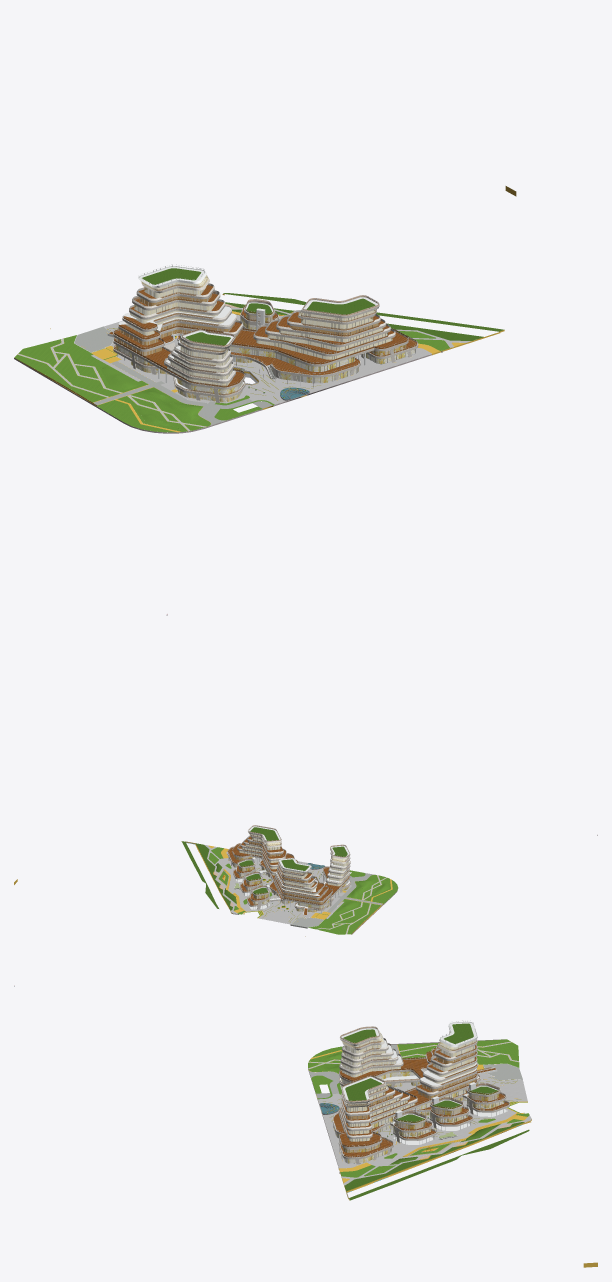
The model's file is super_market.glb.
3 renders of one model, top to bottom at view 1: azimuth 30°, elevation 25°; view 2: azimuth 150°, elevation 25°; view 3: azimuth 270°, elevation 25°, orthographic. The views are drawn at different scales.
Visible parts, largest first — view 1: Object_2, Object_104, Object_121, Object_44, Object_18, Object_81, Object_12, Object_84, Object_122, Object_13, Object_30; view 2: Object_2, Object_104, Object_121, Object_12, Object_84, Object_18, Object_81, Object_44, Object_13, Object_122; view 3: Object_2, Object_104, Object_12, Object_18, Object_84, Object_121, Object_44, Object_81, Object_122, Object_13.
Boxes of the visible parts, x1,y1,x2,y2 form: Object_2: [14, 186, 516, 615]; Object_104: [113, 278, 418, 402]; Object_121: [14, 331, 449, 432]; Object_44: [116, 275, 392, 385]; Object_18: [109, 285, 417, 386]; Object_81: [112, 283, 417, 395]; Object_12: [91, 307, 471, 404]; Object_84: [142, 268, 504, 397]; Object_122: [116, 314, 415, 402]; Object_13: [74, 326, 252, 425]; Object_30: [18, 338, 206, 430]; Object_2: [14, 825, 597, 936]; Object_104: [227, 825, 350, 912]; Object_121: [208, 847, 397, 934]; Object_12: [204, 844, 351, 924]; Object_84: [182, 827, 347, 911]; Object_18: [228, 836, 349, 914]; Object_81: [228, 825, 350, 909]; Object_44: [239, 833, 348, 903]; Object_13: [290, 873, 382, 928]; Object_122: [233, 856, 349, 912]; Object_2: [14, 985, 597, 1267]; Object_104: [332, 1027, 509, 1164]; Object_12: [318, 1063, 531, 1185]; Object_18: [333, 1045, 508, 1157]; Object_84: [324, 1023, 529, 1200]; Object_121: [308, 1039, 529, 1177]; Object_44: [341, 1033, 475, 1141]; Object_81: [339, 1026, 508, 1157]; Object_122: [334, 1071, 504, 1163]; Object_13: [309, 1044, 522, 1093].
Size of the model in its own units: 313 by 140 by 275.
Materials: 14 (14 with a texture image).
